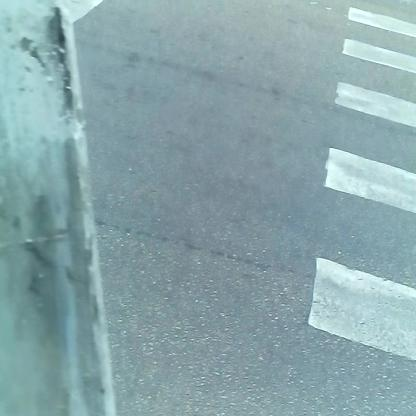crosswalk: (319, 7, 415, 376)
